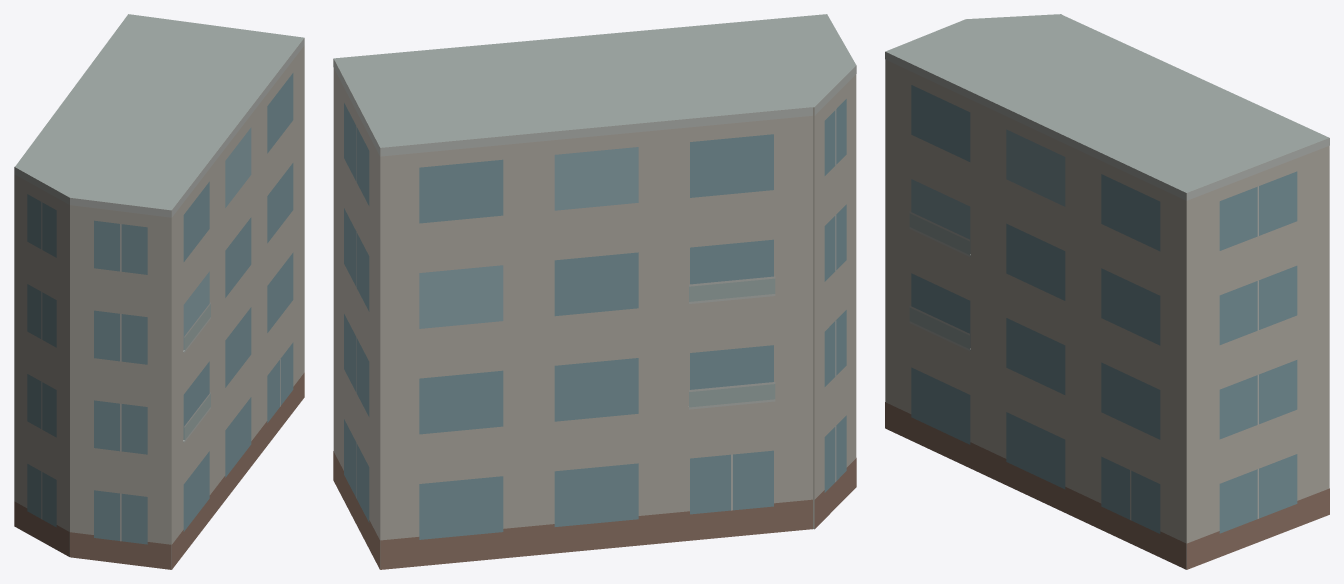
File: survey-upis-32814428.glb
The picture shows the model from 3 angles, left to right: view 1: azimuth 30°, elevation 25°; view 2: azimuth 150°, elevation 25°; view 3: azimuth 270°, elevation 25°; orthographic projection. The views are drawn at different scales.
Parts seen in each view (by area): view 1: survey-upis-32814428.tmp; view 2: survey-upis-32814428.tmp; view 3: survey-upis-32814428.tmp.
Boxes of the visible parts, x1,y1,x2,y2 form: survey-upis-32814428.tmp: (14, 14, 304, 569); survey-upis-32814428.tmp: (333, 14, 856, 569); survey-upis-32814428.tmp: (885, 14, 1329, 569).
Bounding box in the file's own units: 12.13 × 11.89 × 12.72.
